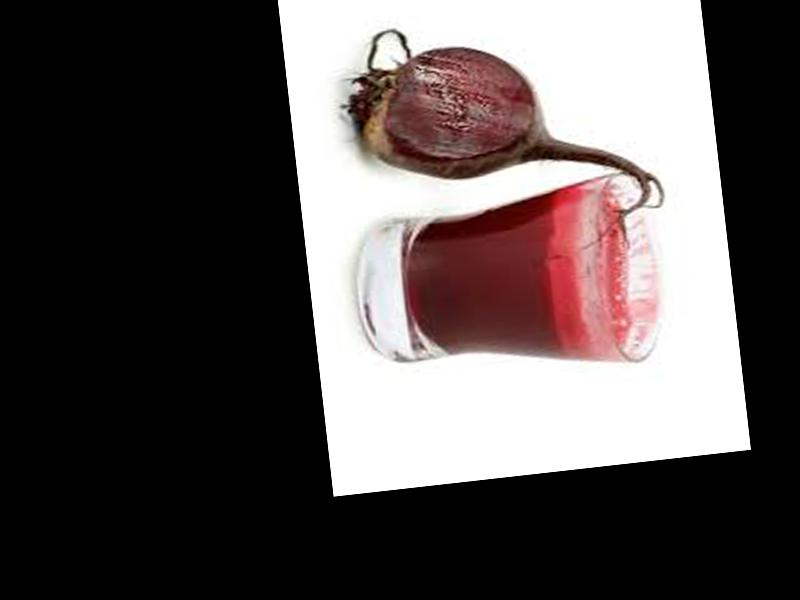Beet: (336, 2, 668, 269)
